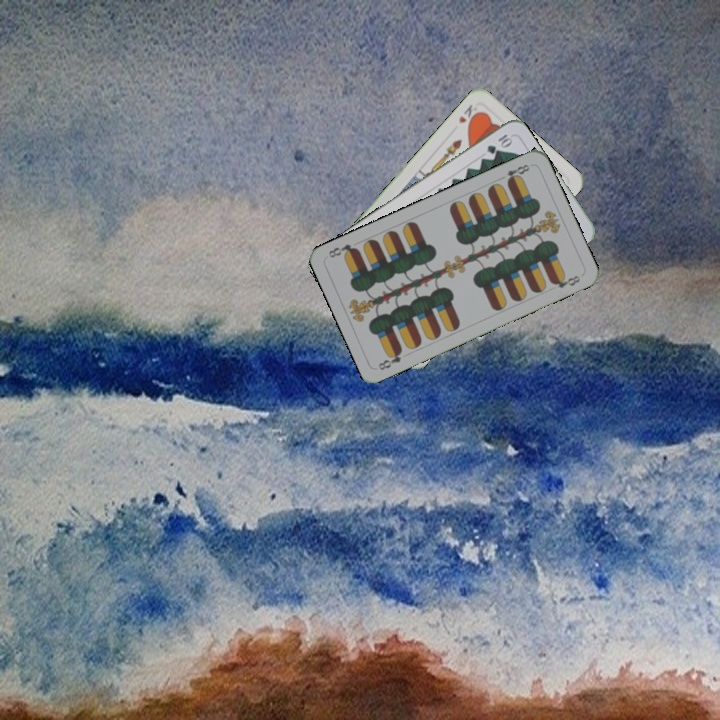E8: (495, 160, 532, 186), (374, 345, 405, 373)
G10: (483, 130, 515, 157)
HK: (454, 100, 482, 128)
